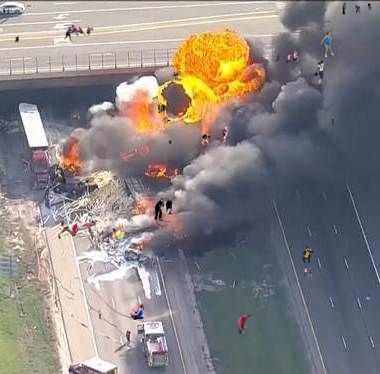Human: (232, 313, 254, 338), (62, 221, 96, 237), (63, 25, 96, 41), (269, 48, 300, 65), (154, 198, 173, 225), (201, 126, 228, 145), (320, 31, 335, 58), (342, 2, 372, 15), (51, 167, 67, 186), (314, 60, 325, 87), (130, 303, 145, 320), (111, 223, 125, 239), (70, 178, 89, 189), (302, 246, 314, 263), (125, 328, 132, 346), (303, 267, 313, 279), (100, 234, 110, 244), (172, 72, 180, 81), (54, 221, 64, 228), (158, 103, 165, 113), (162, 117, 171, 123), (366, 294, 371, 301), (98, 310, 101, 320), (15, 36, 19, 43), (168, 139, 172, 145), (58, 233, 61, 240), (191, 352, 195, 357), (332, 117, 334, 126), (149, 109, 152, 115), (64, 214, 67, 220)
